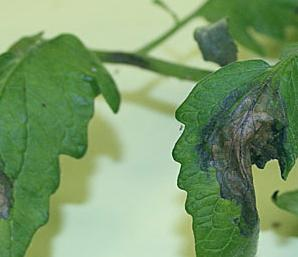Tomato leaf late blight: (0, 4, 125, 257), (159, 51, 298, 257)
